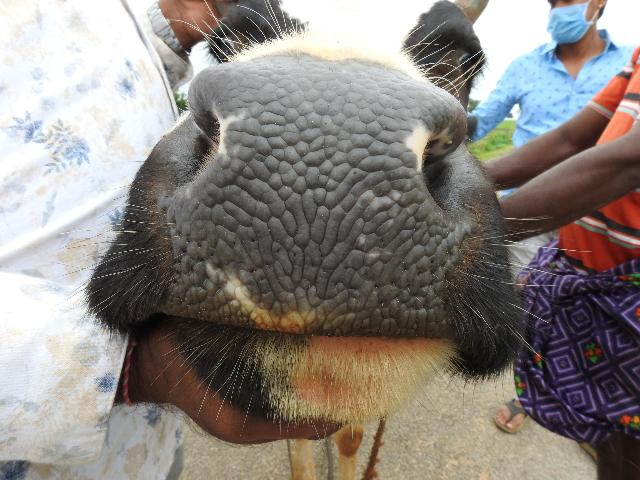Muzzle: (200, 73, 440, 328)
